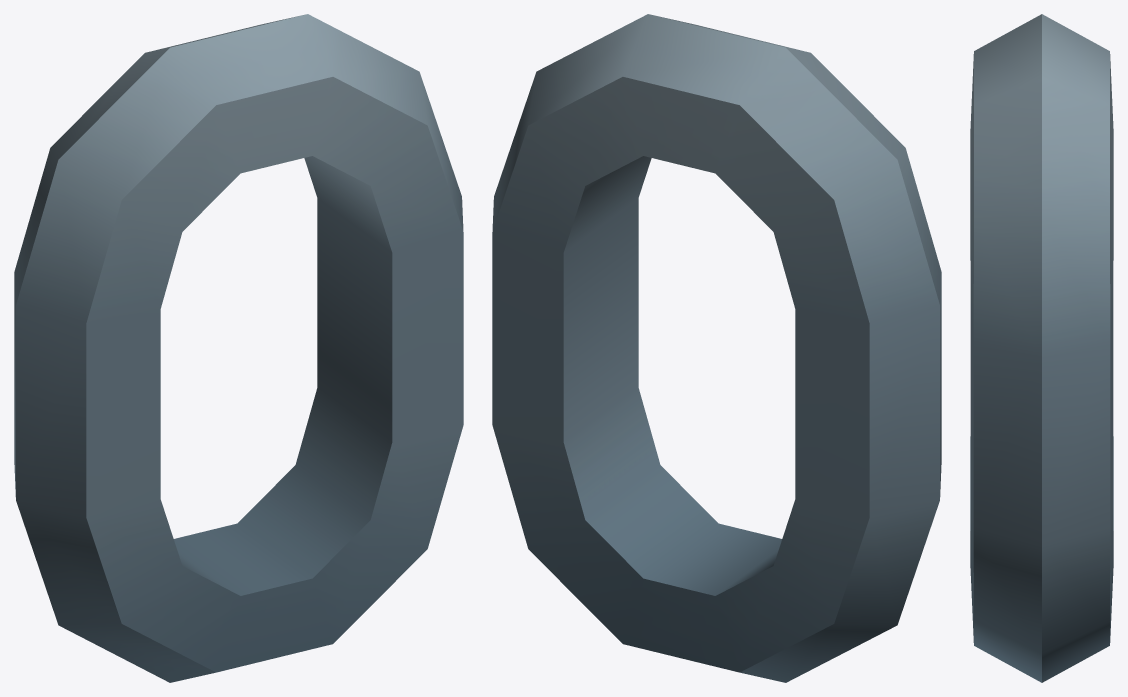
Rendered from chainlink.glb.
3 views of the same model, side by side, from view 1: azimuth 30°, elevation 25°; view 2: azimuth 150°, elevation 25°; view 3: azimuth 270°, elevation 25° (orthographic). The views are drawn at different scales.
Visible parts, largest first — view 1: chainlink; view 2: chainlink; view 3: chainlink.
Part boxes in pixels (x1,y1,x2,y2): chainlink: (14,14,463,682); chainlink: (492,14,941,682); chainlink: (970,14,1113,682).
Bounding box in the file's own units: 0.2443 × 0.3325 × 0.0713.
1 material, 1 textured.
